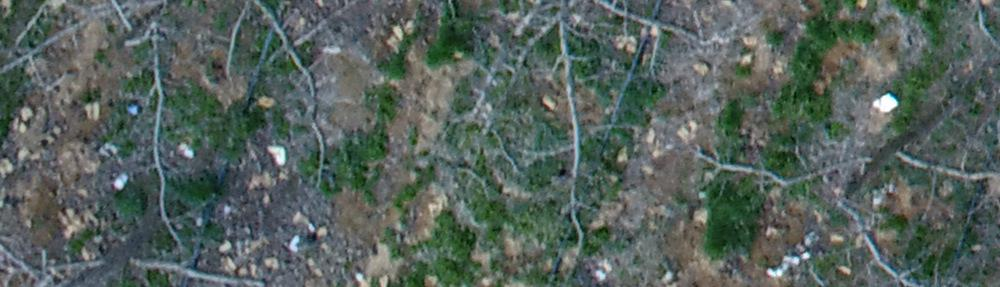apple: (357, 10, 713, 251), (689, 63, 990, 277)
